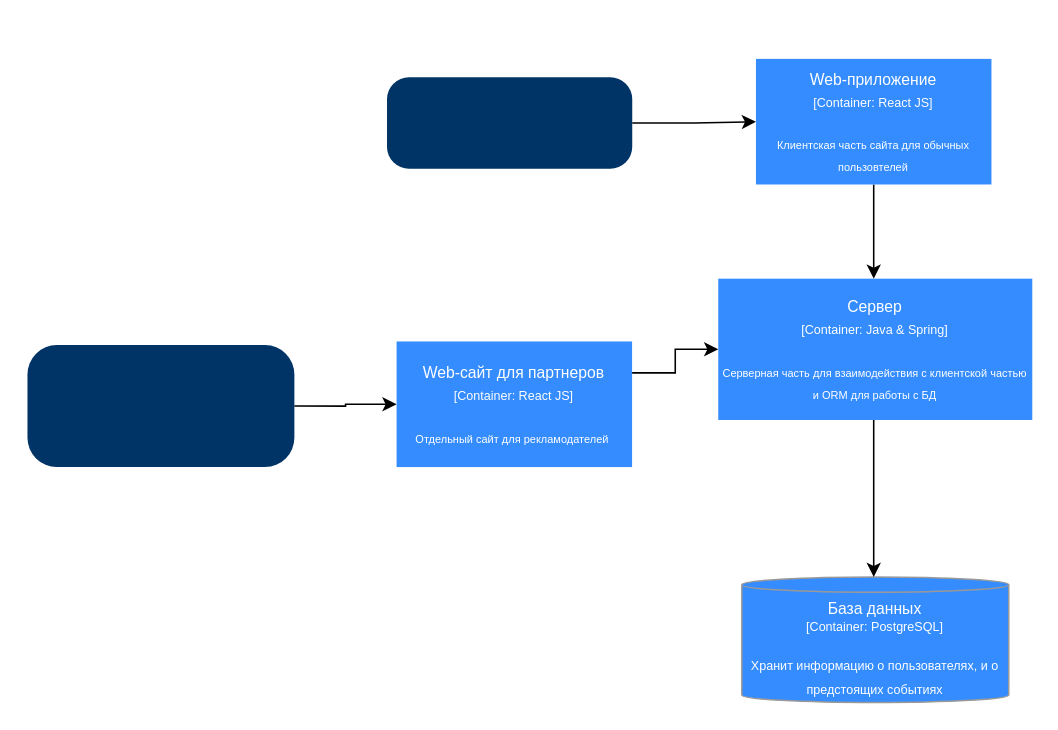
This 1058x730 diagram has some shape labels left out. Each missing label, with the centre of its shape:
"Посетитель сайта" goes at point (508, 122).
"Рекламодатель или спонсор" goes at point (160, 405).
